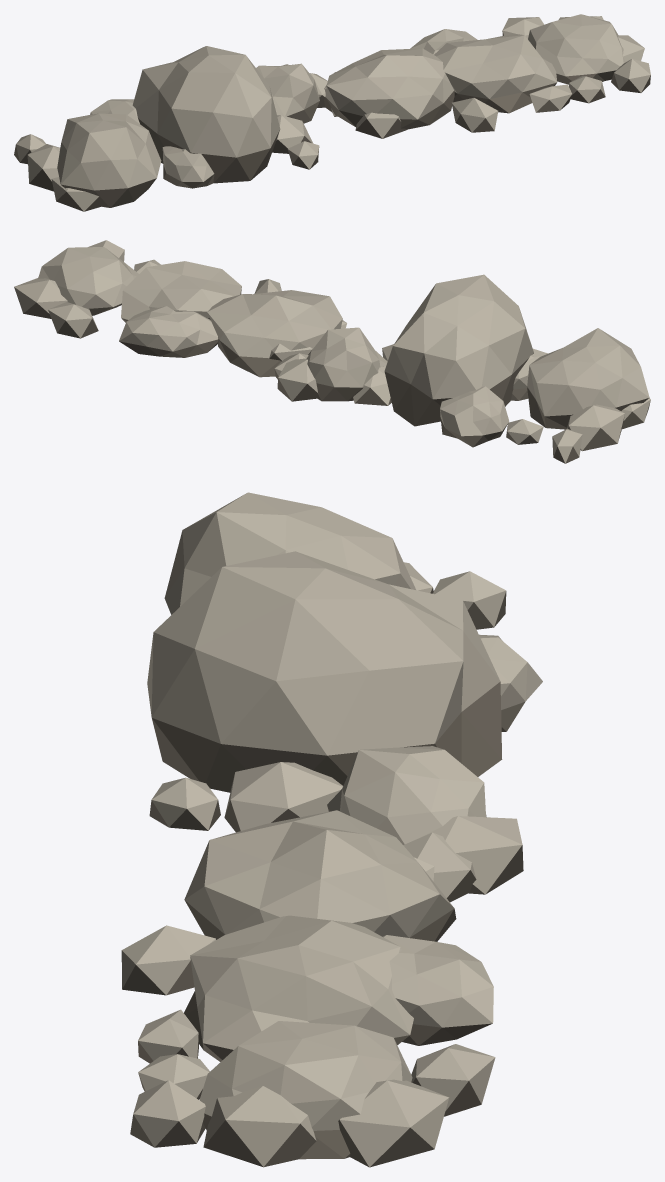
File: stone_hazard_two_lane_B.glb
3 views of the same model, one above another, from view 1: azimuth 30°, elevation 25°; view 2: azimuth 150°, elevation 25°; view 3: azimuth 270°, elevation 25° (orthographic). The views are drawn at different scales.
Parts seen in each view (by area): view 1: stone_hazard_two_lane_B; view 2: stone_hazard_two_lane_B; view 3: stone_hazard_two_lane_B.
Boxes of the visible parts, x1,y1,x2,y2 form: stone_hazard_two_lane_B: (14,14,650,211); stone_hazard_two_lane_B: (14,240,650,463); stone_hazard_two_lane_B: (121,492,542,1167).
Bounding box in the file's own units: 4.86 × 0.7712 × 1.52.
